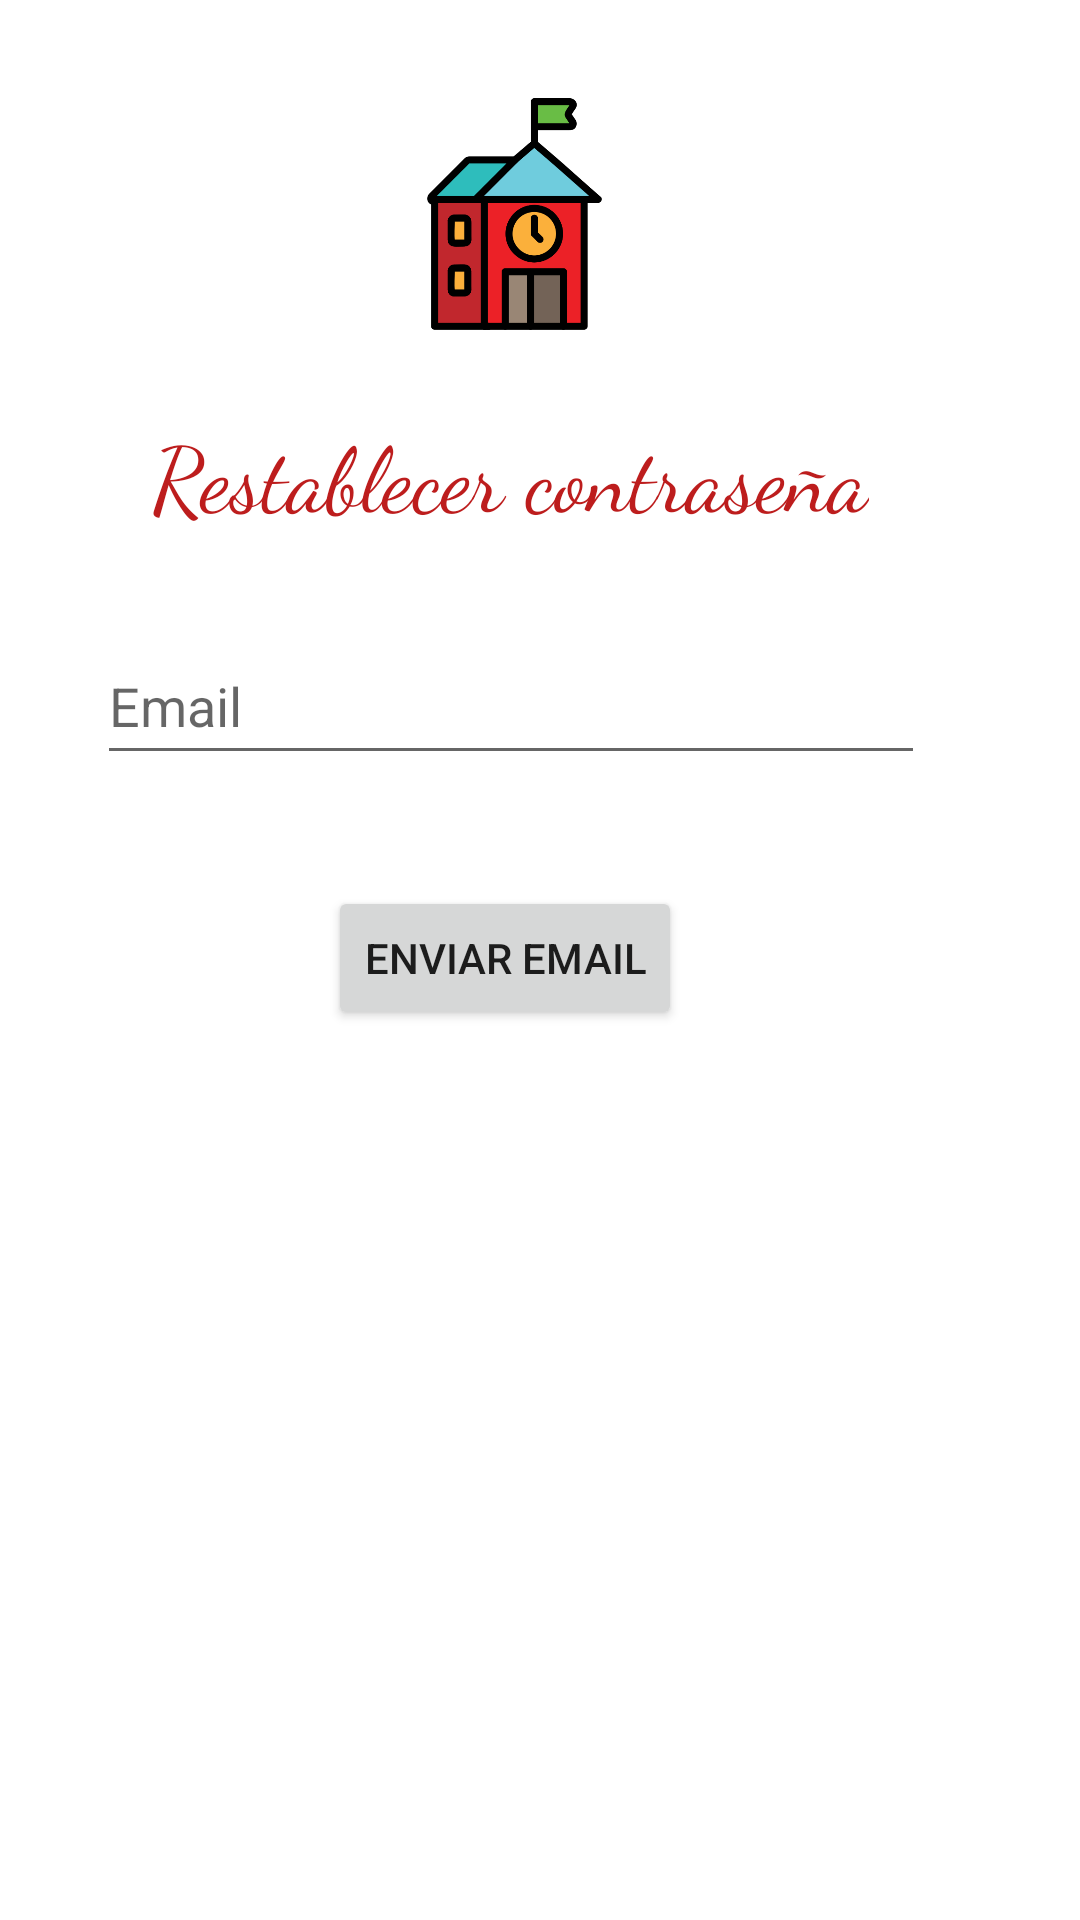

Point at icon controls on the screen. Image size 1080w x 1920h, points as (x=x, y=y).
insti: (x=514, y=214)
